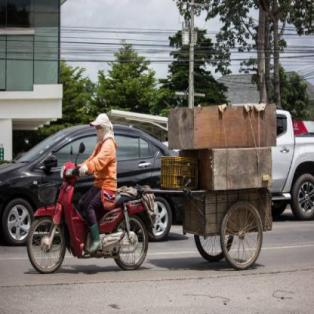Motocicleta: (25, 159, 153, 279)
